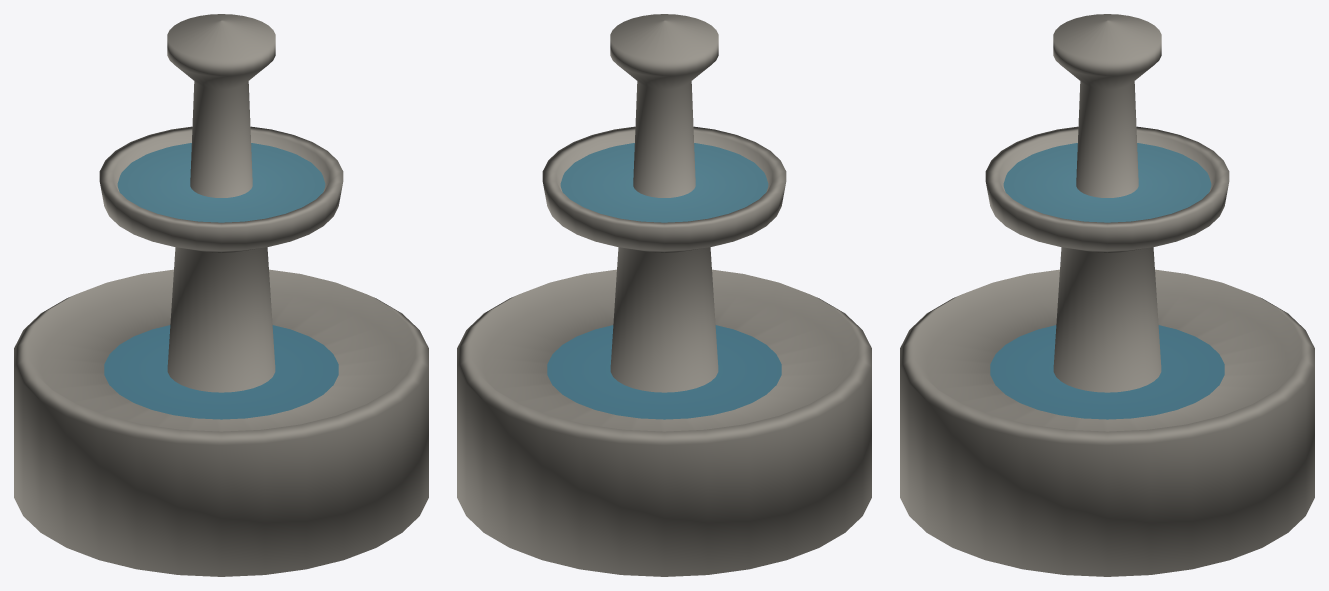
The model's file is garden_fountain.glb.
The picture shows the model from 3 angles, left to right: view 1: azimuth 30°, elevation 25°; view 2: azimuth 150°, elevation 25°; view 3: azimuth 270°, elevation 25°; orthographic projection.
Visible parts, largest first — view 1: garden_fountain; view 2: garden_fountain; view 3: garden_fountain.
Part boxes in pixels (x1,y1,x2,y2): garden_fountain: (14, 14, 428, 576); garden_fountain: (457, 14, 871, 576); garden_fountain: (900, 14, 1314, 576).
Size of the model in its own units: 0.92 by 1.14 by 0.915.
